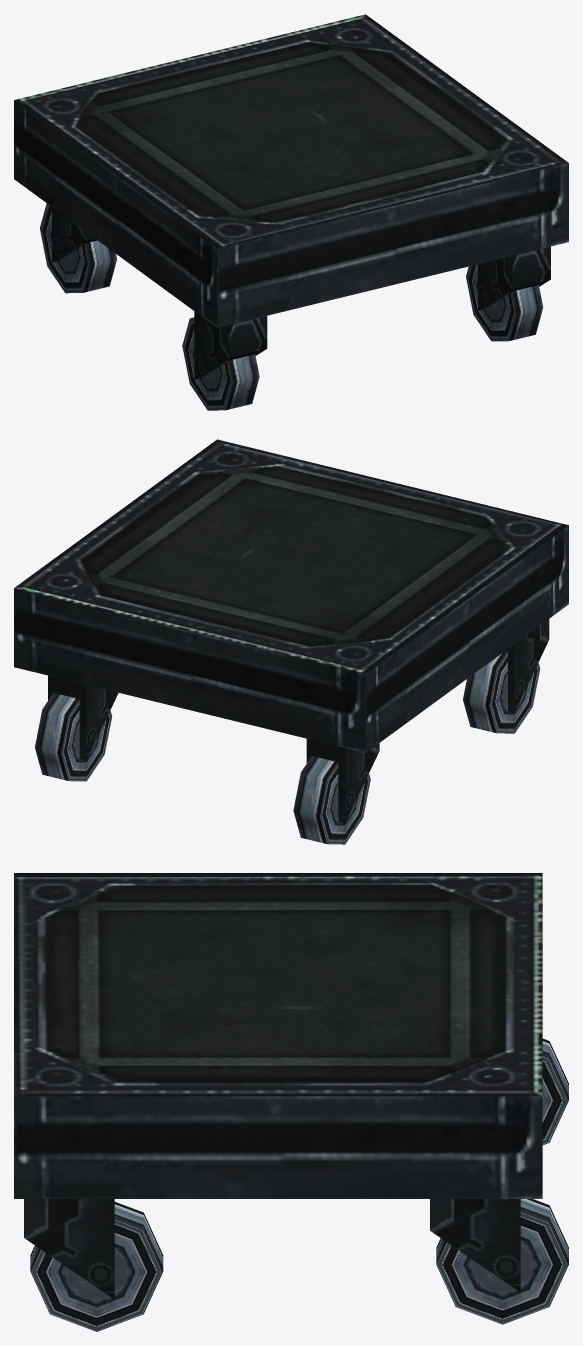
File: Crate_table.FBX
3 views of the same model, one above another, from view 1: azimuth 30°, elevation 25°; view 2: azimuth 150°, elevation 25°; view 3: azimuth 270°, elevation 25° (orthographic). The views are drawn at different scales.
Visible parts, largest first — view 1: Crate_table; view 2: Crate_table; view 3: Crate_table.
Part boxes in pixels (<box>): Crate_table: <box>14,14,568,410</box>; Crate_table: <box>14,439,568,844</box>; Crate_table: <box>14,873,568,1331</box>.
Size of the model in its own units: 147 by 76.03 by 154.
